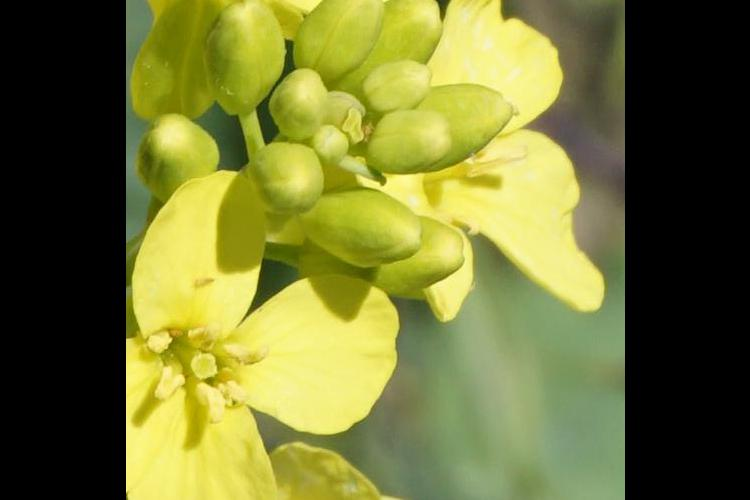bud: (202, 1, 285, 137), (135, 107, 232, 221), (351, 1, 456, 103), (290, 1, 398, 97), (359, 210, 469, 295), (304, 185, 422, 259), (243, 134, 322, 232), (354, 106, 455, 182), (356, 56, 436, 117), (280, 66, 336, 146), (302, 120, 357, 178)
yellow: (138, 168, 401, 500), (413, 1, 601, 338), (128, 1, 368, 59), (274, 442, 449, 500)
